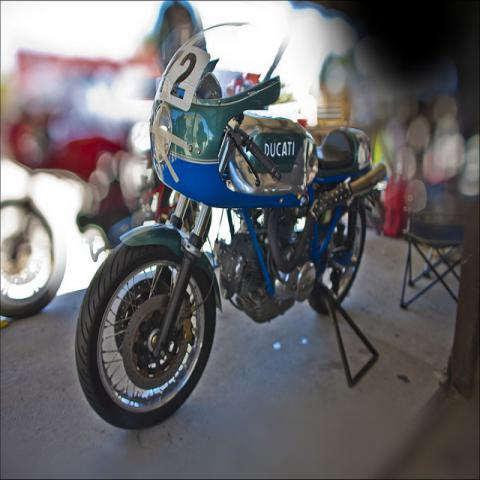motorcycle: (70, 21, 386, 437), (0, 156, 110, 317)
